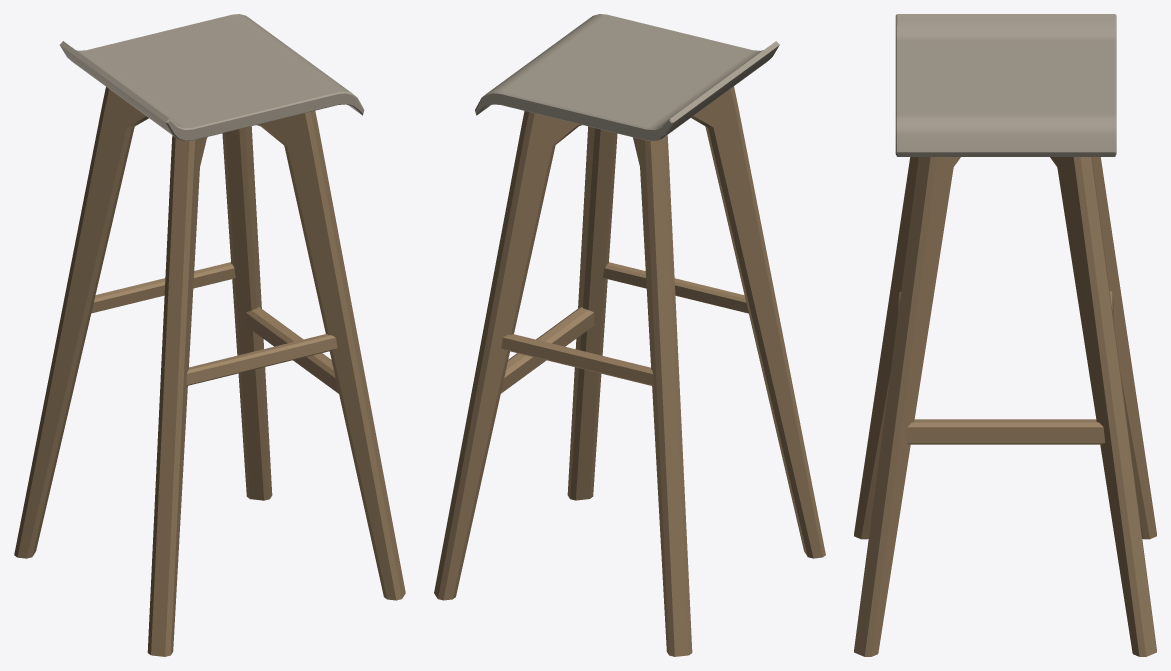
The model's file is HIGH_CHAIR.fbx.
The picture shows the model from 3 angles, left to right: view 1: azimuth 30°, elevation 25°; view 2: azimuth 150°, elevation 25°; view 3: azimuth 270°, elevation 25°; orthographic projection. The views are drawn at different scales.
Parts seen in each view (by area): view 1: chair8_pCube14; view 2: chair8_pCube14; view 3: chair8_pCube14.
Boxes of the visible parts, left/top/right/bottom form: chair8_pCube14: left=14, top=14, right=405, bottom=656; chair8_pCube14: left=434, top=14, right=825, bottom=656; chair8_pCube14: left=854, top=14, right=1156, bottom=656.
Size of the model in its own units: 0.6328 by 1.23 by 0.6328.
